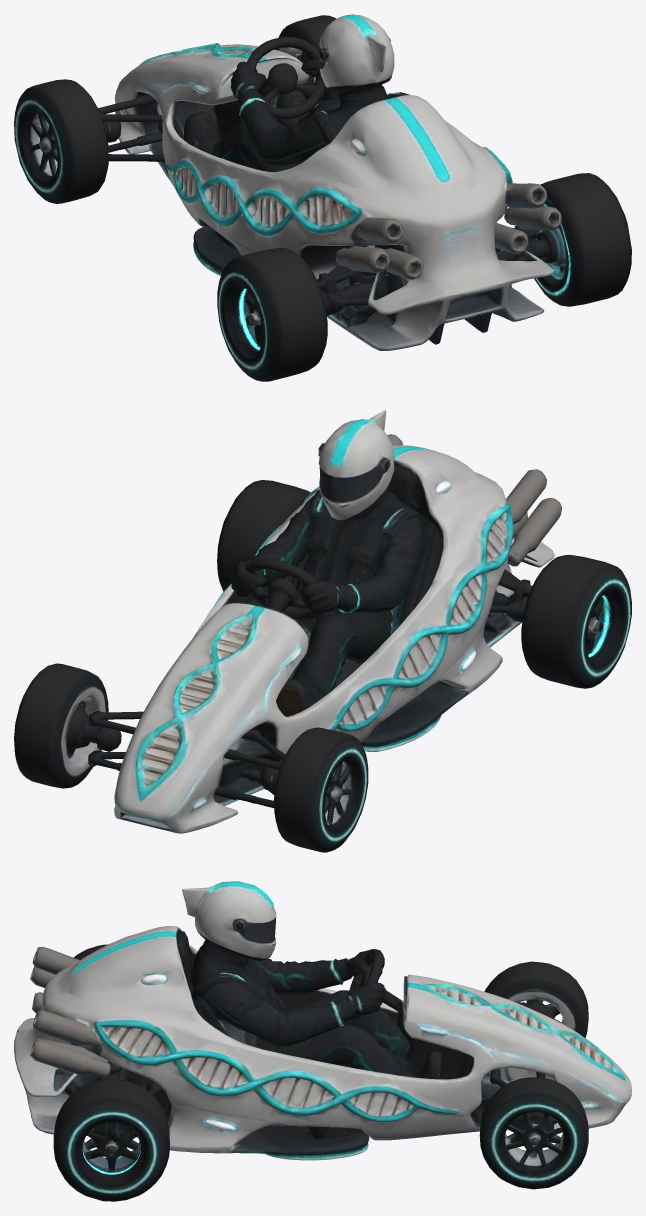
The model's file is helix-final.glb.
3 renders of one model, top to bottom at view 1: azimuth 30°, elevation 25°; view 2: azimuth 150°, elevation 25°; view 3: azimuth 270°, elevation 25°, orthographic. The views are drawn at different scales.
Parts seen in each view (by area): view 1: chassis, wheel-rl, wheel-rr, wheel-fl, wheel-fr; view 2: chassis, wheel-rl, wheel-fl, wheel-fr, wheel-rr; view 3: chassis, wheel-rr, wheel-fr, wheel-fl.
Part boxes in pixels (x1=…): chassis: x1=98, y1=14, x2=561, y2=350; wheel-rl: x1=217, y1=247, x2=327, y2=381; wheel-rr: x1=530, y1=173, x2=631, y2=306; wheel-fl: x1=14, y1=79, x2=108, y2=203; wheel-fr: x1=275, y1=15, x2=339, y2=103; chassis: x1=83, y1=410, x2=561, y2=833; wheel-rl: x1=521, y1=554, x2=631, y2=688; wheel-fl: x1=274, y1=727, x2=368, y2=852; wheel-fr: x1=14, y1=663, x2=108, y2=788; wheel-rr: x1=217, y1=480, x2=310, y2=591; chassis: x1=14, y1=881, x2=631, y2=1160; wheel-rr: x1=53, y1=1079, x2=169, y2=1201; wheel-fr: x1=479, y1=1077, x2=588, y2=1189; wheel-fl: x1=484, y1=961, x2=588, y2=1037.
Size of the model in its own units: 2.77 by 1.95 by 4.5.
Materials: 1 (1 with a texture image).
